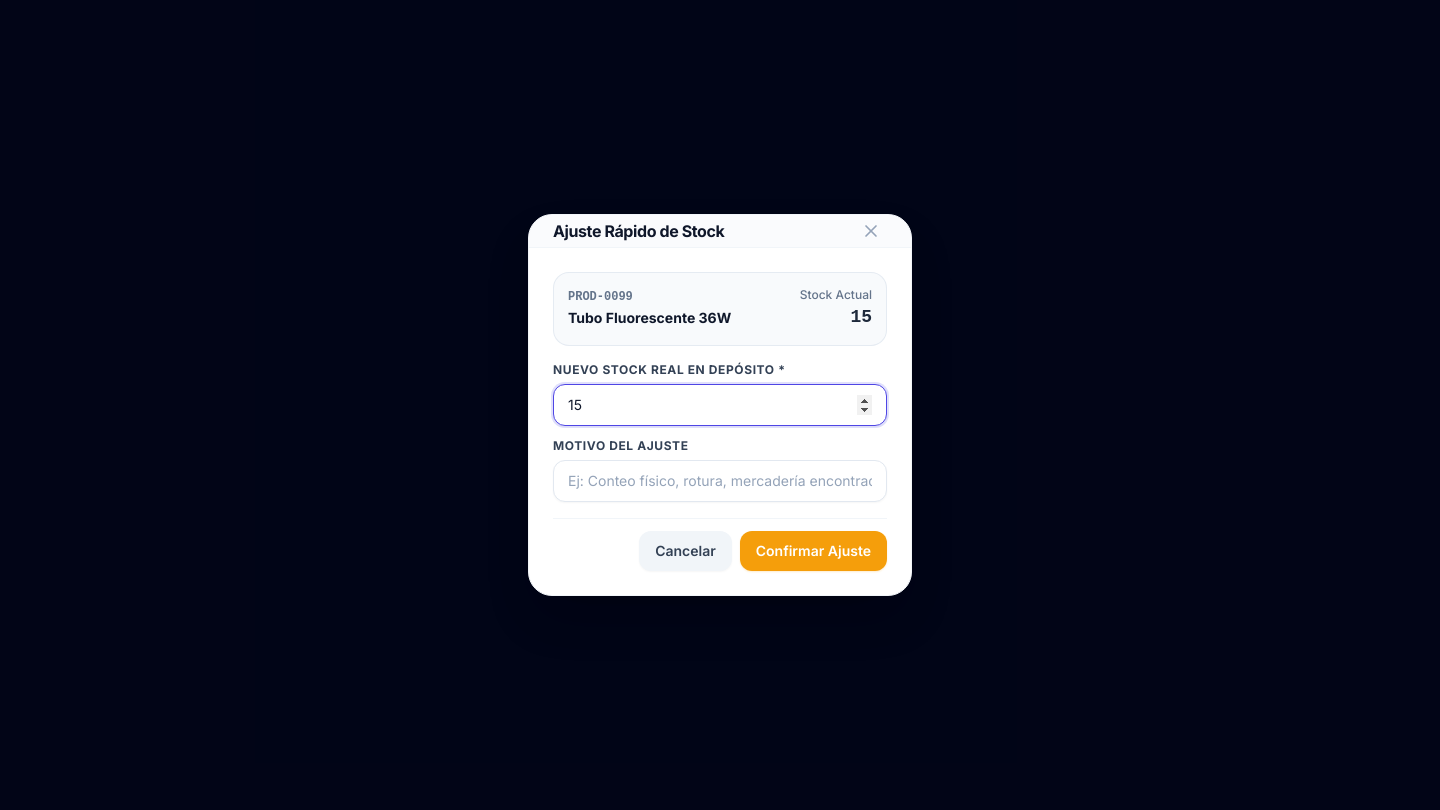
ProductQuickAdjustModal Component › inicializa con el stock actual y calcula la diferencia dinámica
The width and height of the screenshot is (1440, 810).
# Cambiar a 20 (+5)
Replace the text in the number field labelled "Nuevo Stock Real en Depósito *" with "20" at (720, 405), box [553,384,887,426]
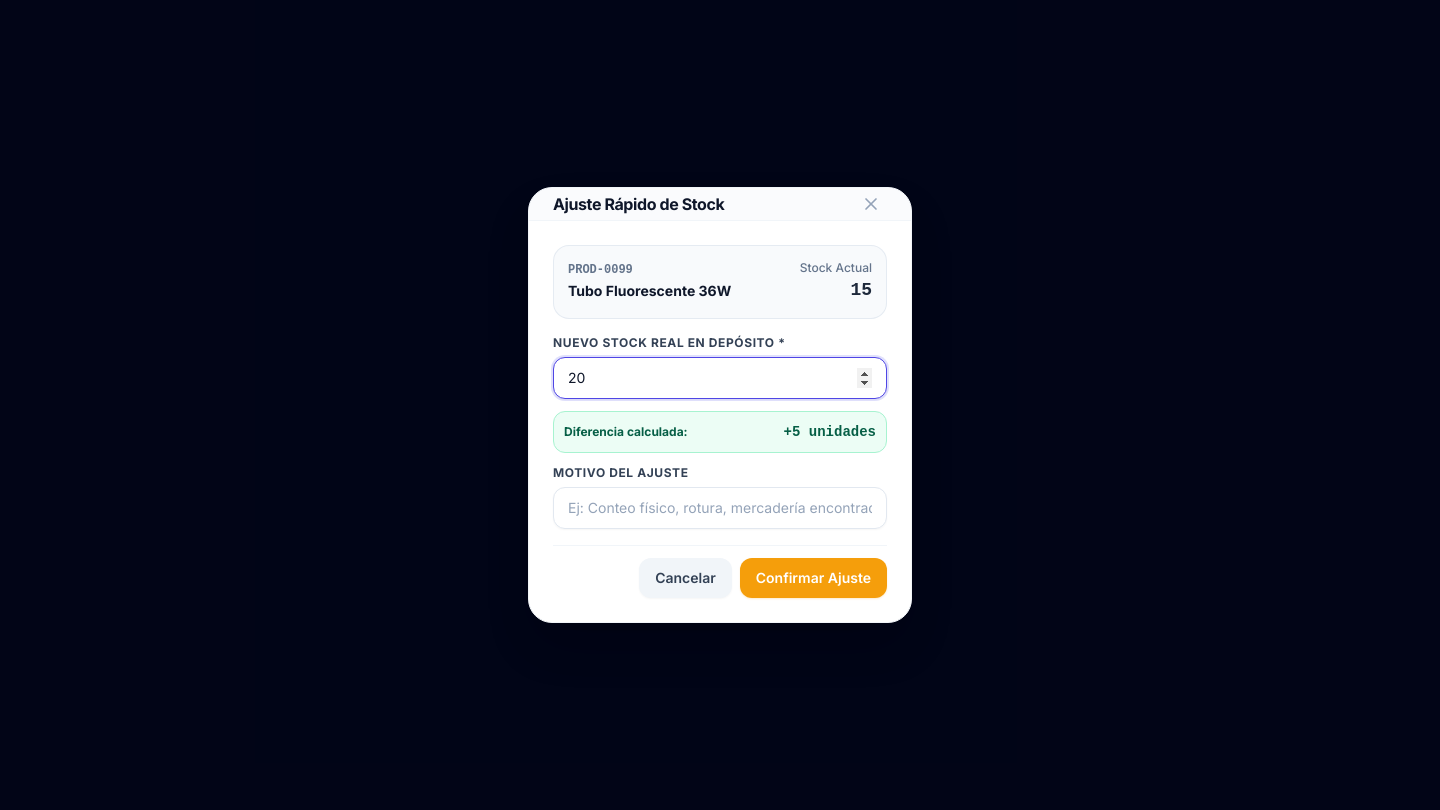
expect the text "+5 unidades" is shown: met, box [784,422,876,442]
# Cambiar a 10 (-5)
Replace the text in the number field labelled "Nuevo Stock Real en Depósito *" with "10" at (720, 378), box [553,357,887,399]
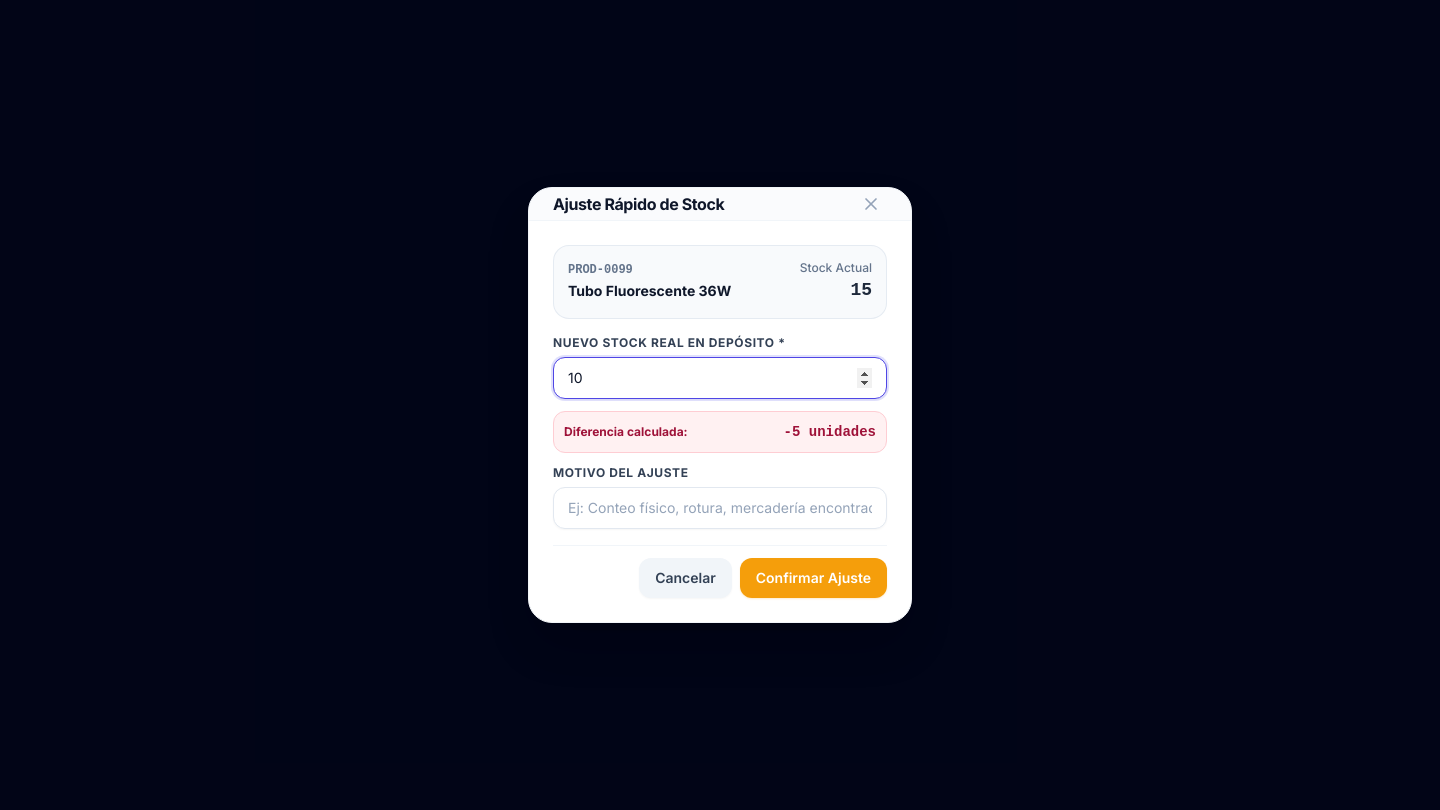
expect the text "-5 unidades" is shown: met, box [784,422,876,442]
